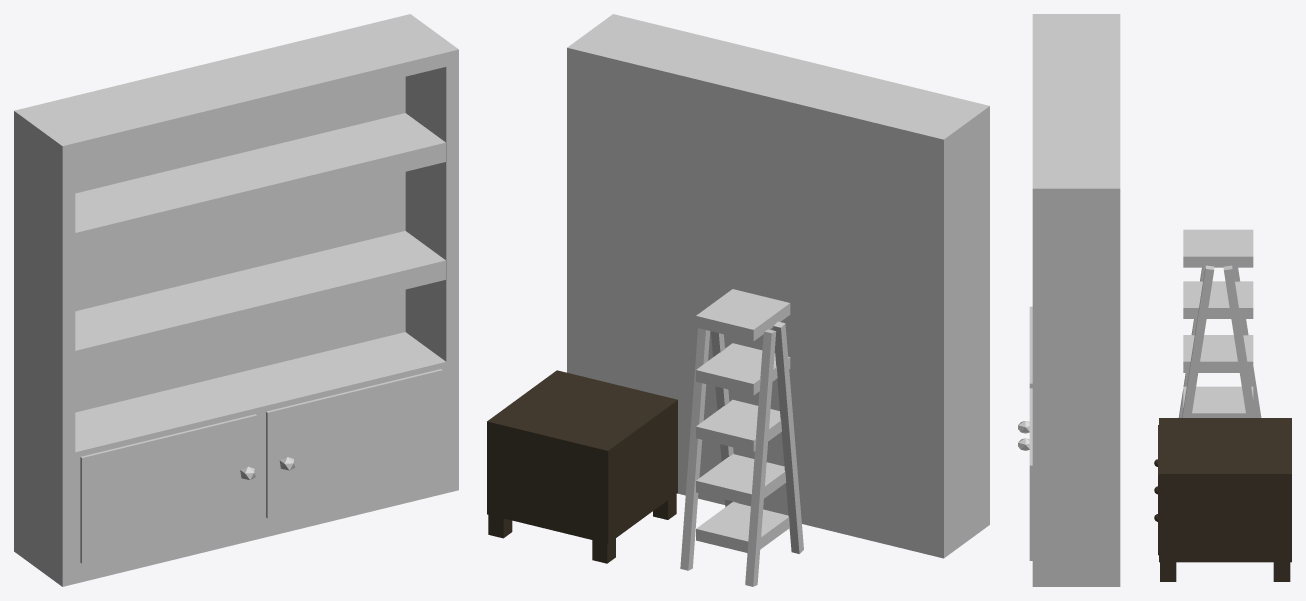
File: Cupboards.fbx
3 views of the same model, side by side, from view 1: azimuth 30°, elevation 25°; view 2: azimuth 150°, elevation 25°; view 3: azimuth 270°, elevation 25° (orthographic). The views are drawn at different scales.
Parts seen in each view (by area): view 1: CurpboardGreenhouse; view 2: CurpboardGreenhouse, BedsideTable, ESTANTERIA; view 3: CurpboardGreenhouse, BedsideTable, ESTANTERIA.
Boxes of the visible parts, x1,y1,x2,y2 form: CurpboardGreenhouse: [14, 14, 458, 586]; CurpboardGreenhouse: [567, 14, 989, 558]; BedsideTable: [487, 370, 677, 563]; ESTANTERIA: [680, 289, 803, 586]; CurpboardGreenhouse: [1018, 14, 1120, 586]; BedsideTable: [1154, 418, 1291, 581]; ESTANTERIA: [1178, 229, 1261, 417].
Size of the model in its own units: 2.5 by 2.65 by 1.65.
